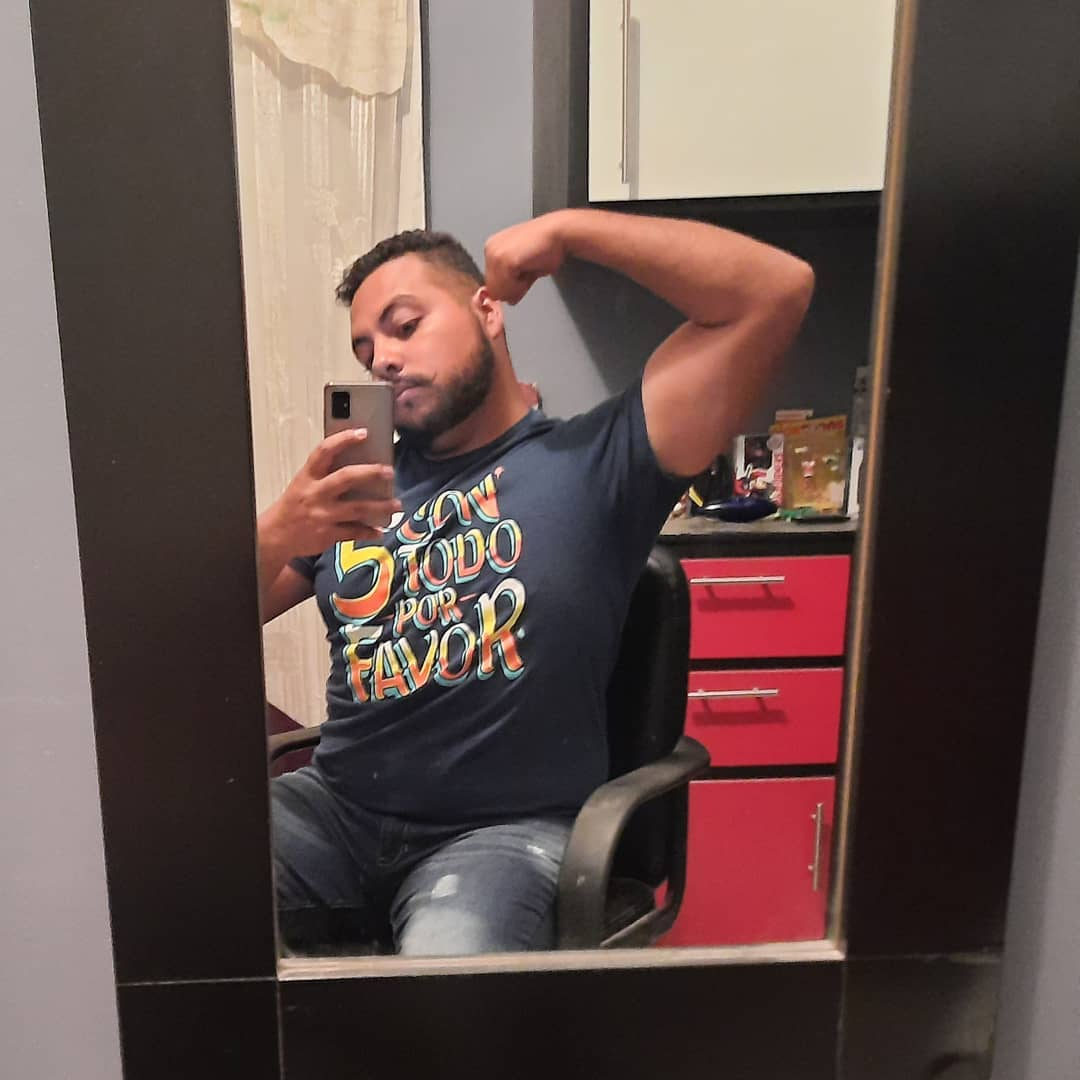Yoshi: (270, 147, 810, 783)
